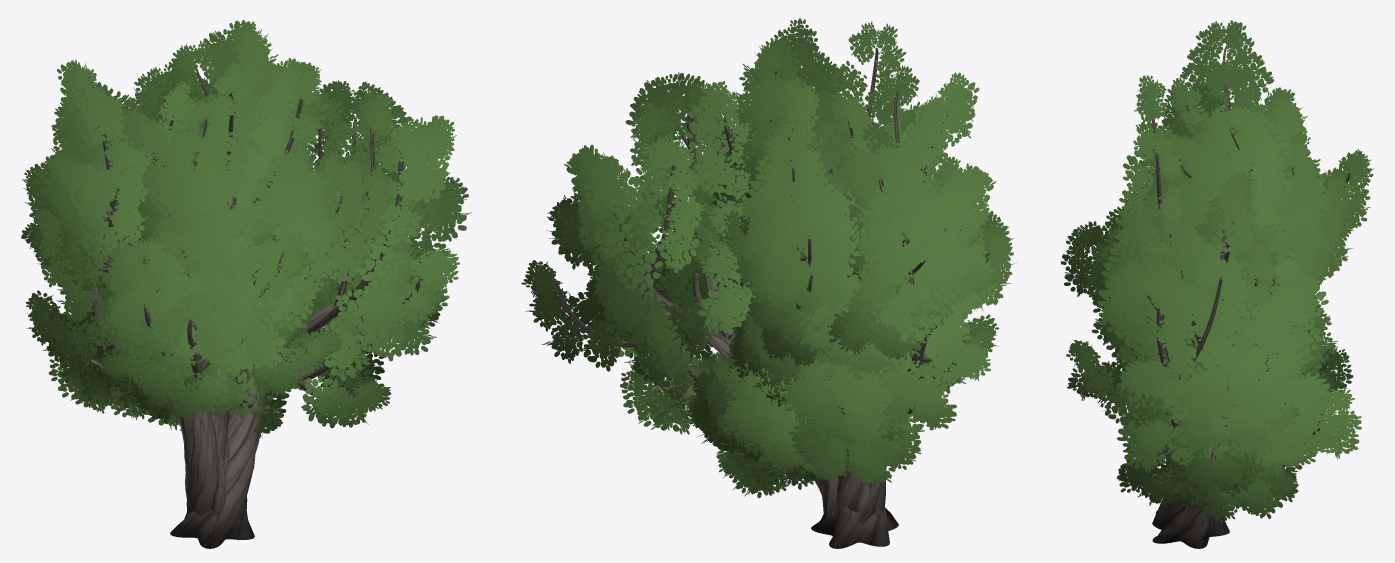
Rendered from trees_twisted_olive.glb.
3 views of the same model, side by side, from view 1: azimuth 30°, elevation 25°; view 2: azimuth 150°, elevation 25°; view 3: azimuth 270°, elevation 25° (orthographic). The views are drawn at different scales.
Visible parts, largest first — view 1: TwistedTree_Olive_2, TwistedTree_Olive_1, TwistedTree_Olive_3, TwistedTree_Olive_4, TwistedTree_Olive_5; view 2: TwistedTree_Olive_1, TwistedTree_Olive_2, TwistedTree_Olive_4, TwistedTree_Olive_3, TwistedTree_Olive_5; view 3: TwistedTree_Olive_1, TwistedTree_Olive_4, TwistedTree_Olive_2, TwistedTree_Olive_3, TwistedTree_Olive_5.
Part boxes in pixels (<box>): TwistedTree_Olive_2: <box>21,60,321,532</box>; TwistedTree_Olive_1: <box>145,60,471,548</box>; TwistedTree_Olive_3: <box>48,92,396,533</box>; TwistedTree_Olive_4: <box>65,20,368,532</box>; TwistedTree_Olive_5: <box>91,99,347,521</box>; TwistedTree_Olive_1: <box>521,72,898,548</box>; TwistedTree_Olive_2: <box>723,18,1015,522</box>; TwistedTree_Olive_4: <box>712,37,939,489</box>; TwistedTree_Olive_3: <box>685,99,1013,521</box>; TwistedTree_Olive_5: <box>711,119,926,525</box>; TwistedTree_Olive_1: <box>1066,171,1361,548</box>; TwistedTree_Olive_4: <box>1082,84,1374,380</box>; TwistedTree_Olive_2: <box>1102,20,1320,535</box>; TwistedTree_Olive_3: <box>1060,163,1353,513</box>; TwistedTree_Olive_5: <box>1113,166,1352,379</box>.
Bounding box in the file's own units: 13.47 × 14.25 × 9.1.
Materials: 2 (2 with a texture image).
